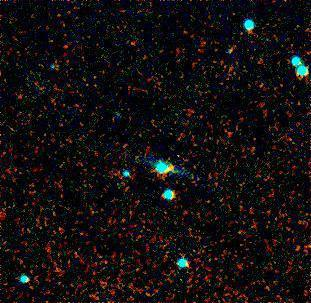star: (153, 154, 183, 184)
